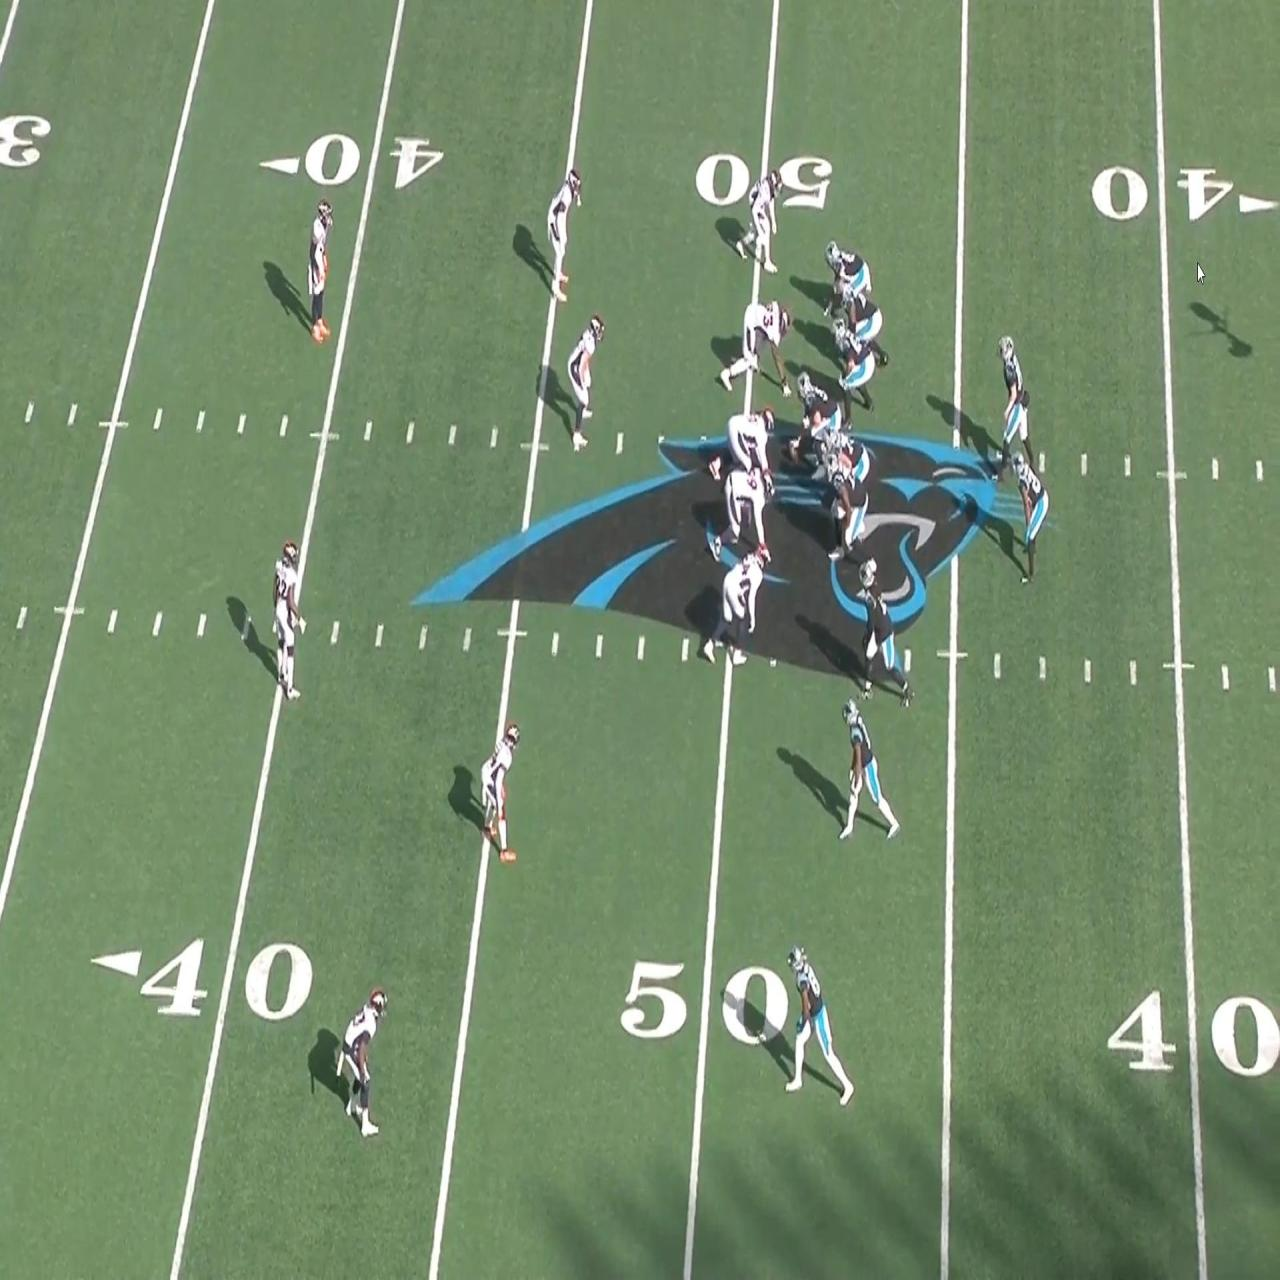10R: (0, 109, 53, 166)
40L: (91, 935, 312, 1021), (258, 134, 443, 188)
40R: (1104, 987, 1280, 1076), (1092, 165, 1280, 225)
50: (621, 954, 788, 1044), (694, 152, 833, 212)
